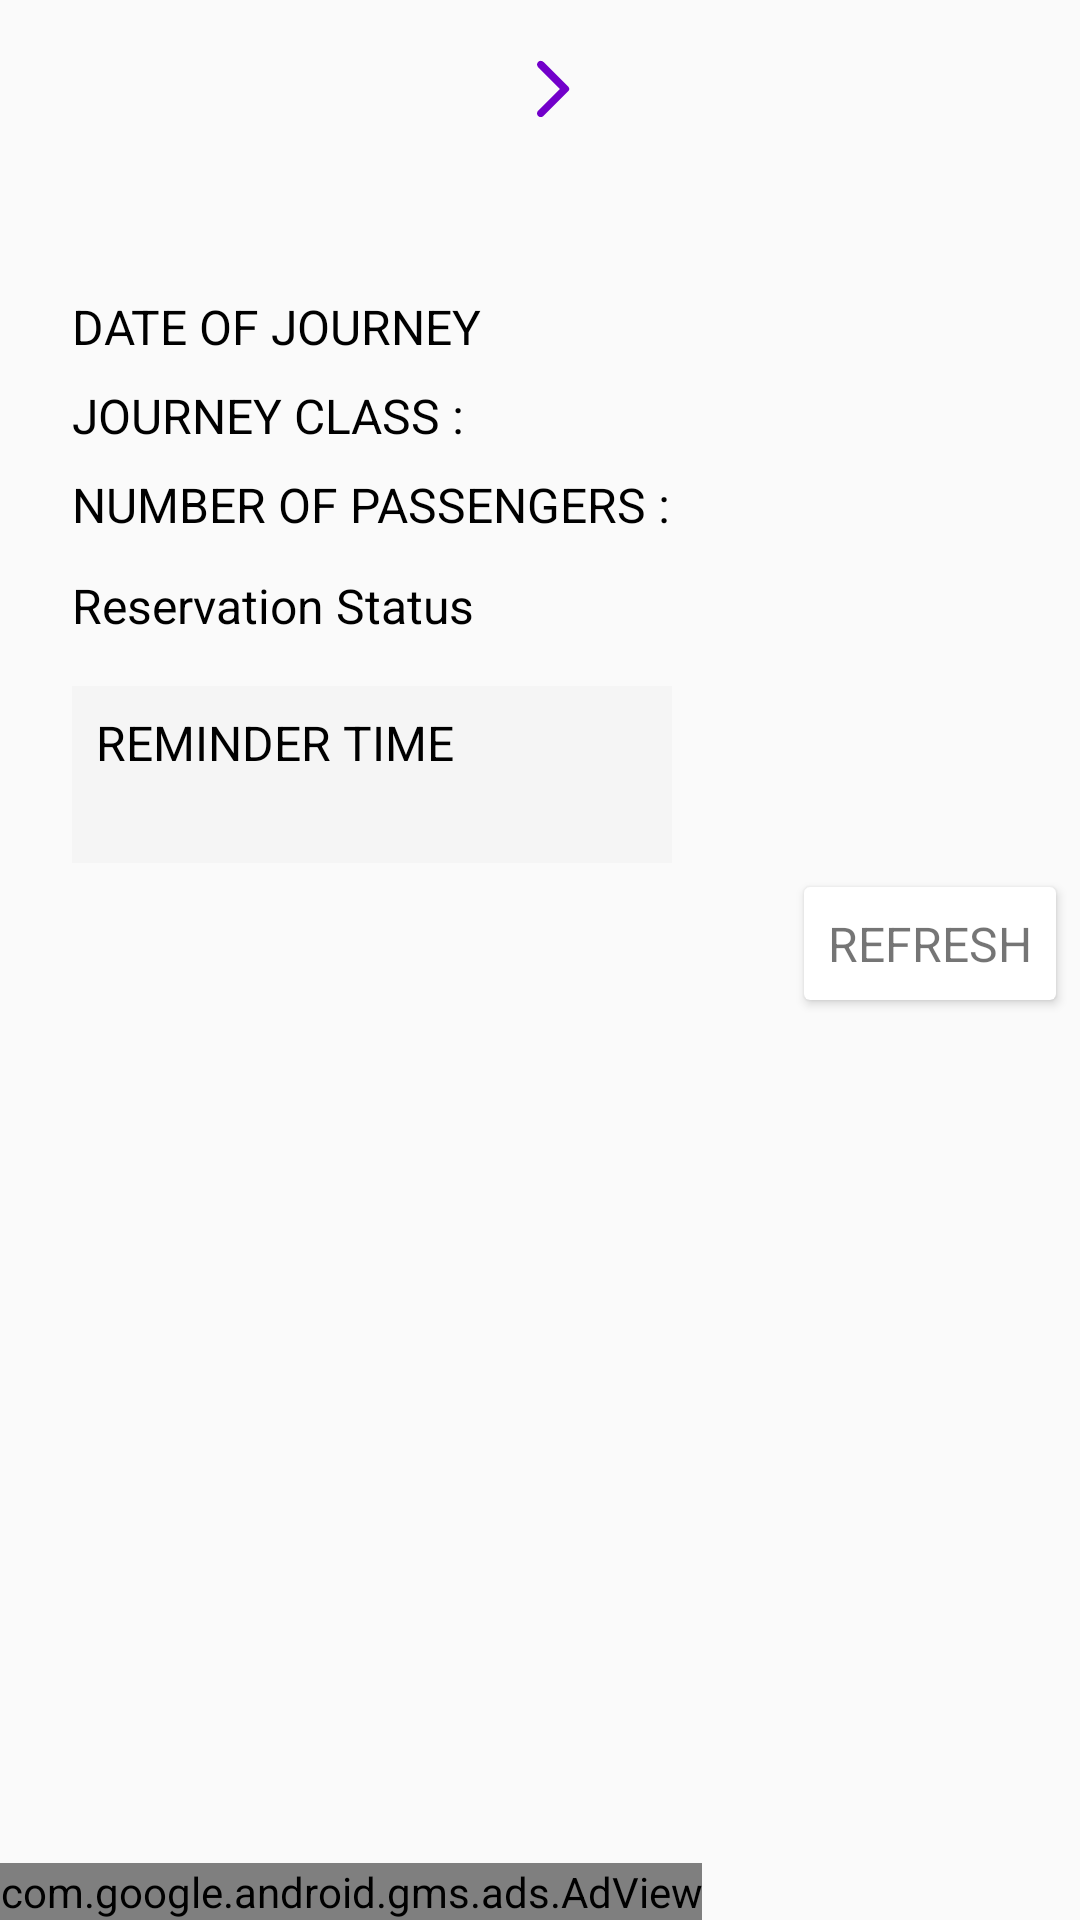

Where icons sit on this 1080w x 1920h app screen, as (x1, y1, x2, y2):
Directional Arrow: (537, 60, 570, 117)
